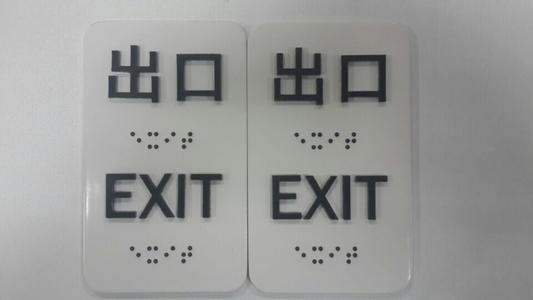Braille: (180, 131, 193, 151), (163, 245, 176, 265), (328, 131, 341, 151), (147, 131, 160, 150), (180, 245, 193, 264), (328, 246, 341, 265), (344, 132, 357, 151), (147, 245, 159, 265), (346, 245, 358, 265), (129, 246, 142, 264), (130, 131, 142, 150), (164, 131, 176, 150), (294, 132, 306, 151), (294, 246, 307, 263), (312, 246, 324, 264), (311, 132, 323, 150)
